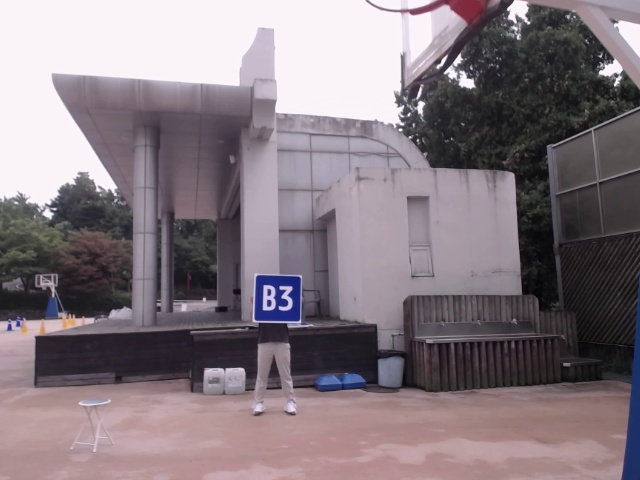delivery_b3: (255, 273, 303, 325)
